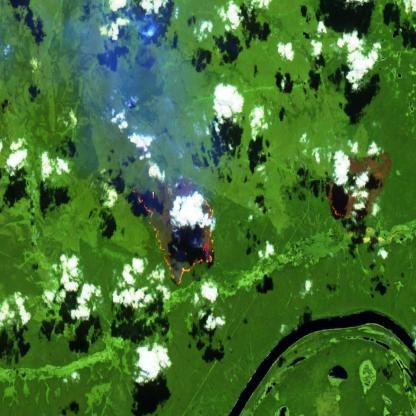fire: (137, 191, 217, 287), (328, 199, 365, 224)
